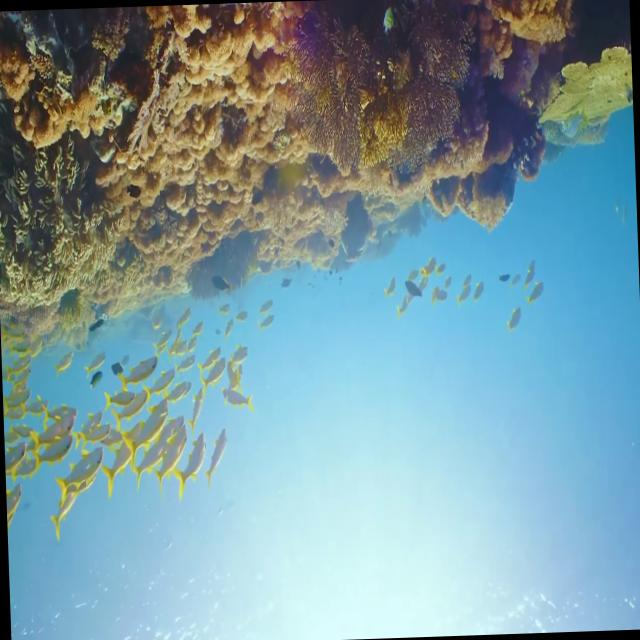fish: (46, 424, 110, 537), (168, 431, 213, 499), (93, 432, 140, 493), (148, 418, 190, 482)
